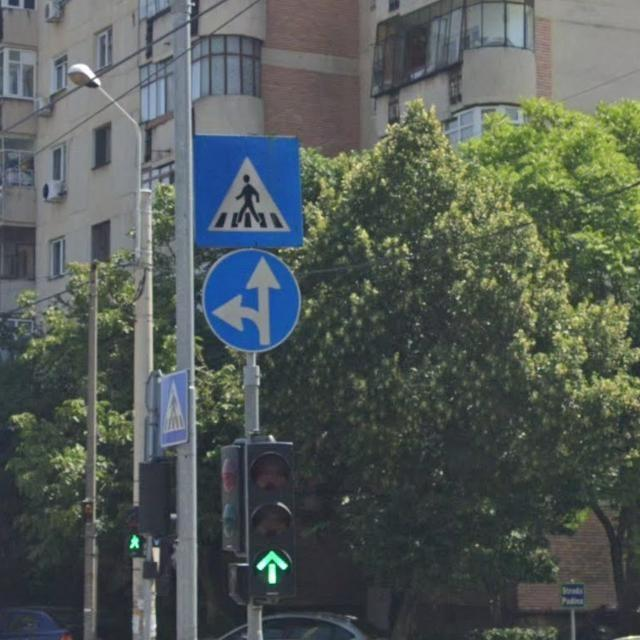info_crosswalk: (187, 131, 309, 252), (151, 372, 192, 447)
